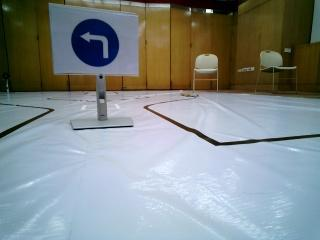left: (50, 9, 140, 73)
